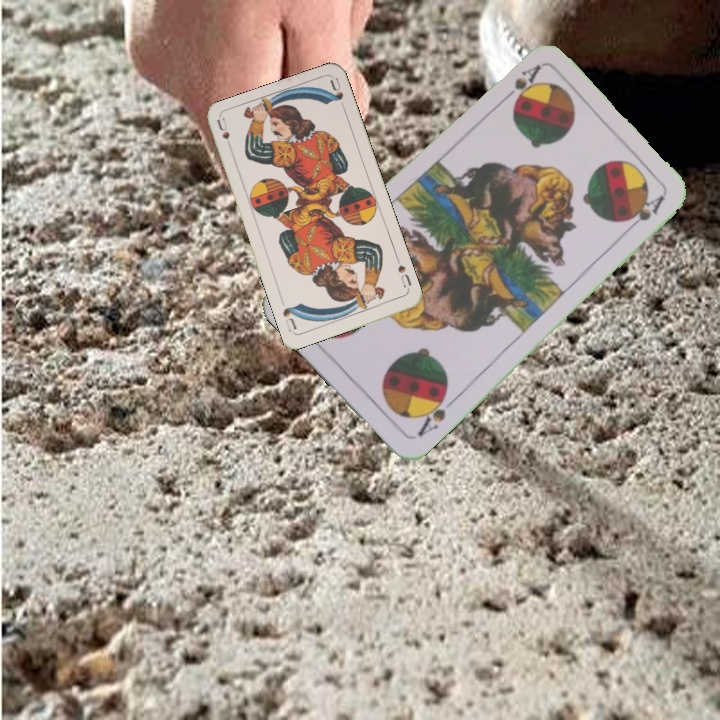SA: (413, 388, 458, 439), (496, 60, 544, 107)
SU: (392, 254, 414, 290), (213, 115, 232, 142)
